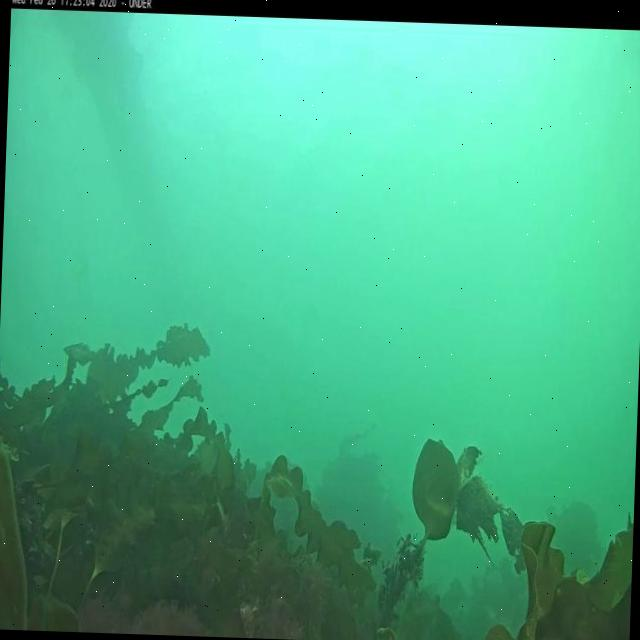fish: (60, 339, 95, 369)
